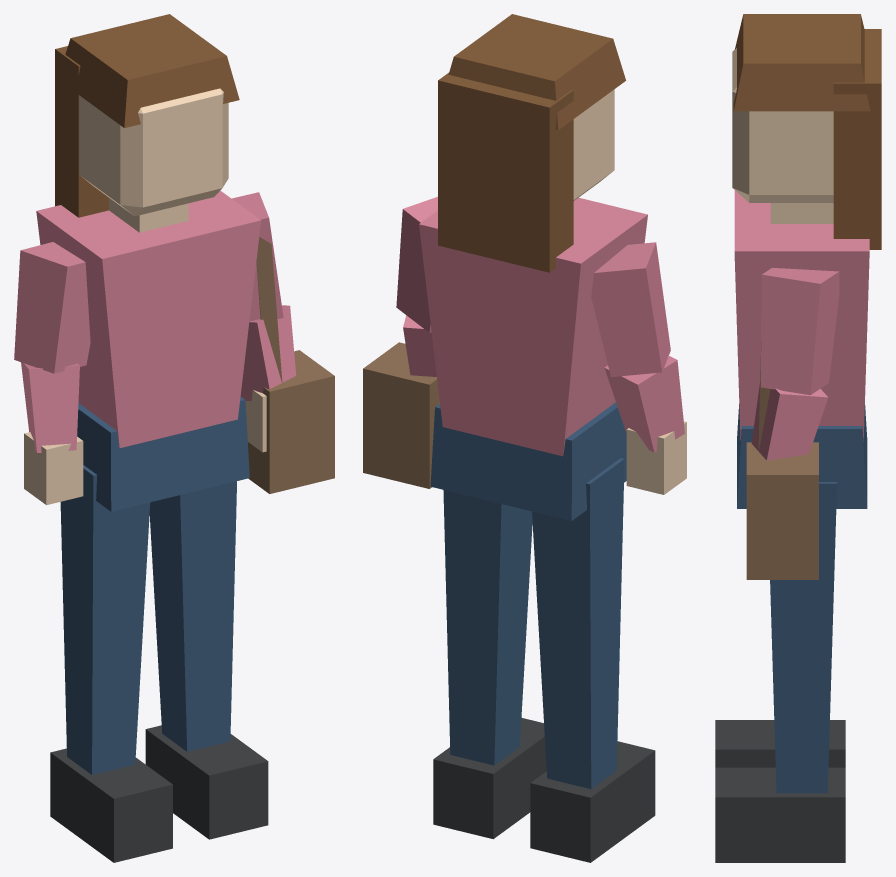
Rendered from Citizen_Female_05_Pink_Top.fbx.
3 renders of one model, left to right at view 1: azimuth 30°, elevation 25°; view 2: azimuth 150°, elevation 25°; view 3: azimuth 270°, elevation 25°, orthographic. The views are drawn at different scales.
Parts seen in each view (by area): view 1: Citizen_Female_05_Pink_Top_Mesh; view 2: Citizen_Female_05_Pink_Top_Mesh; view 3: Citizen_Female_05_Pink_Top_Mesh.
Boxes of the visible parts, x1,y1,x2,y2 form: Citizen_Female_05_Pink_Top_Mesh: (14,14,334,862); Citizen_Female_05_Pink_Top_Mesh: (363,14,686,862); Citizen_Female_05_Pink_Top_Mesh: (715,14,881,862).
Size of the model in its own units: 66.48 by 168 by 32.29.
